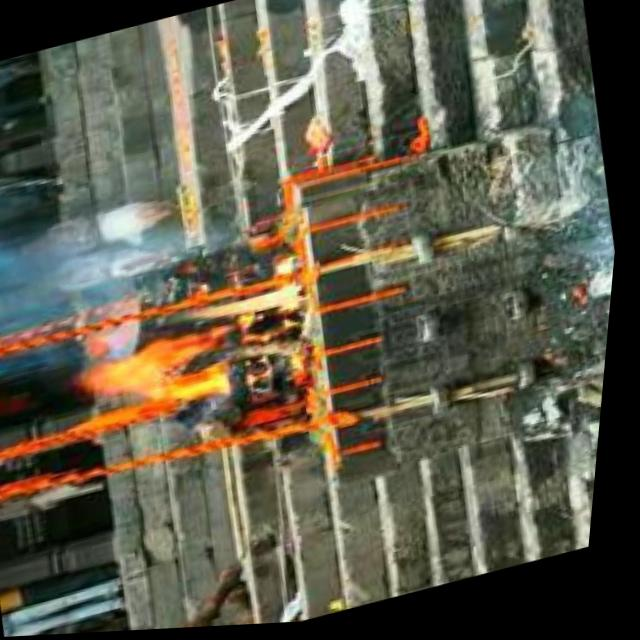Fire: (63, 277, 328, 433)
